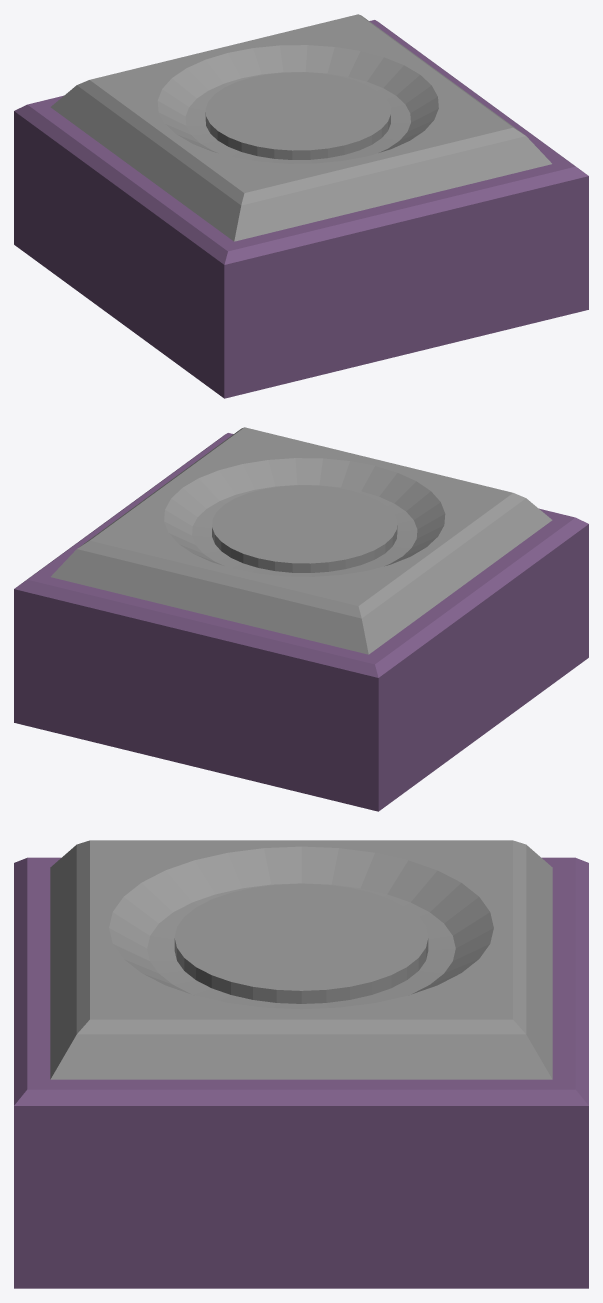
The model's file is SM_Platebox.fbx.
3 renders of one model, top to bottom at view 1: azimuth 30°, elevation 25°; view 2: azimuth 150°, elevation 25°; view 3: azimuth 270°, elevation 25°, orthographic. The views are drawn at different scales.
Visible parts, largest first — view 1: dishwasher; view 2: dishwasher; view 3: dishwasher.
Boxes of the visible parts, left/top/right/bottom form: dishwasher: left=14, top=14, right=588, bottom=398; dishwasher: left=14, top=427, right=588, bottom=811; dishwasher: left=14, top=840, right=588, bottom=1288.
Size of the model in its own units: 90.1 by 40.99 by 90.1.
